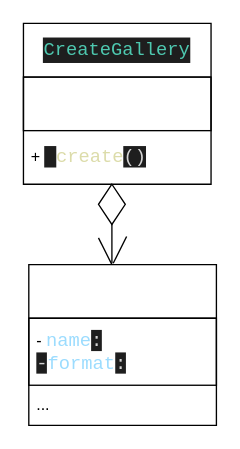
Image size: 240x449. Some labels were removed from this diagram. Here are the shapes that lost their labels. From the top down, the box of each, then its label:
(22, 76, 211, 131): - images : []
(27, 263, 216, 425): Gallery
